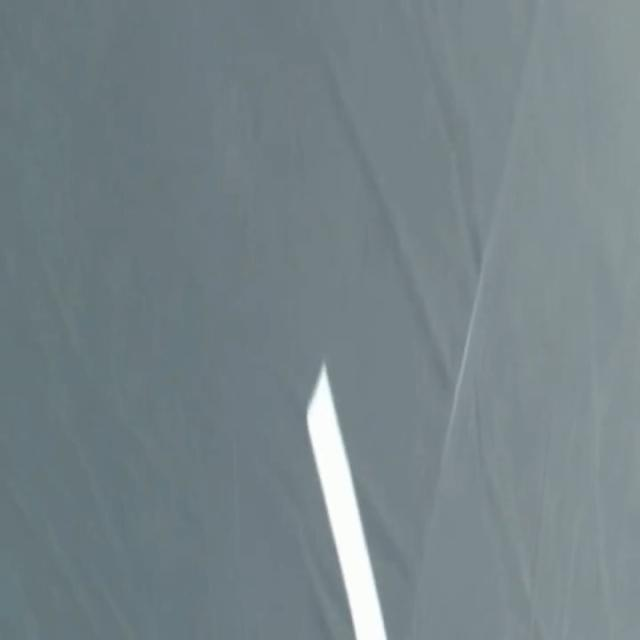center: (308, 363, 386, 639)
